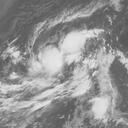cyclone: (28, 44, 64, 77)
